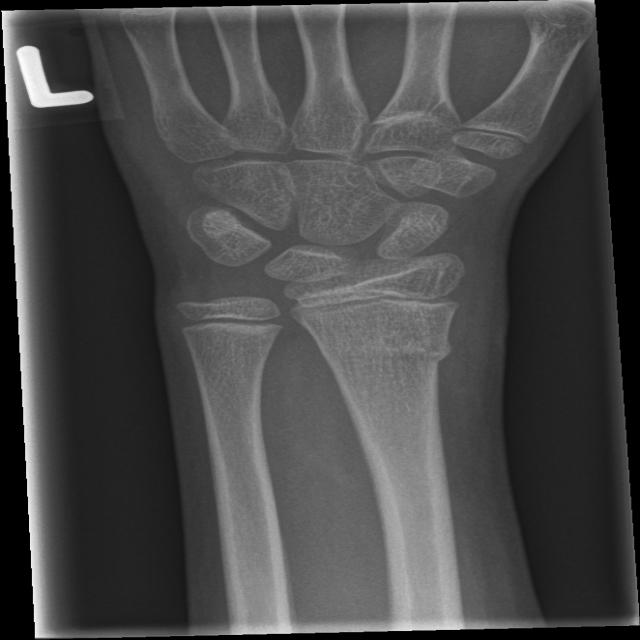radius fracture: (382, 301, 510, 491)
